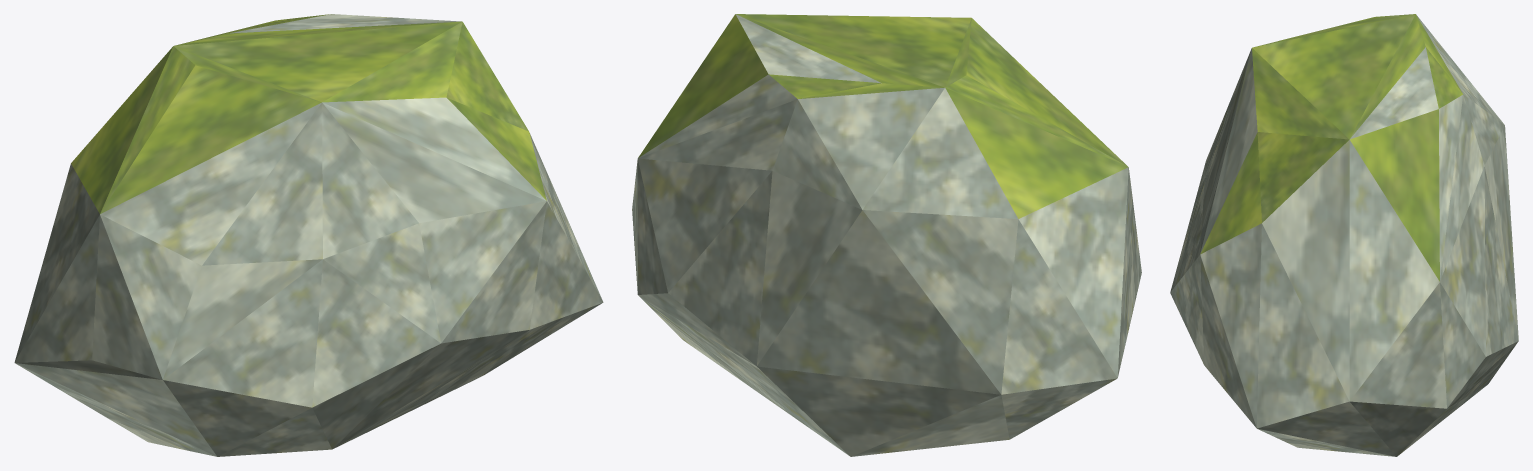
The model's file is Rock_Bank_C.glb.
3 views of the same model, side by side, from view 1: azimuth 30°, elevation 25°; view 2: azimuth 150°, elevation 25°; view 3: azimuth 270°, elevation 25° (orthographic). The views are drawn at different scales.
Parts seen in each view (by area): view 1: Rock_Bank_C; view 2: Rock_Bank_C; view 3: Rock_Bank_C.
Boxes of the visible parts, left/top/right/bottom form: Rock_Bank_C: left=14, top=14, right=603, bottom=456; Rock_Bank_C: left=632, top=14, right=1141, bottom=456; Rock_Bank_C: left=1170, top=14, right=1518, bottom=456.
Bounding box in the file's own units: 3.09 × 2.06 × 1.89.
1 material, 1 textured.
